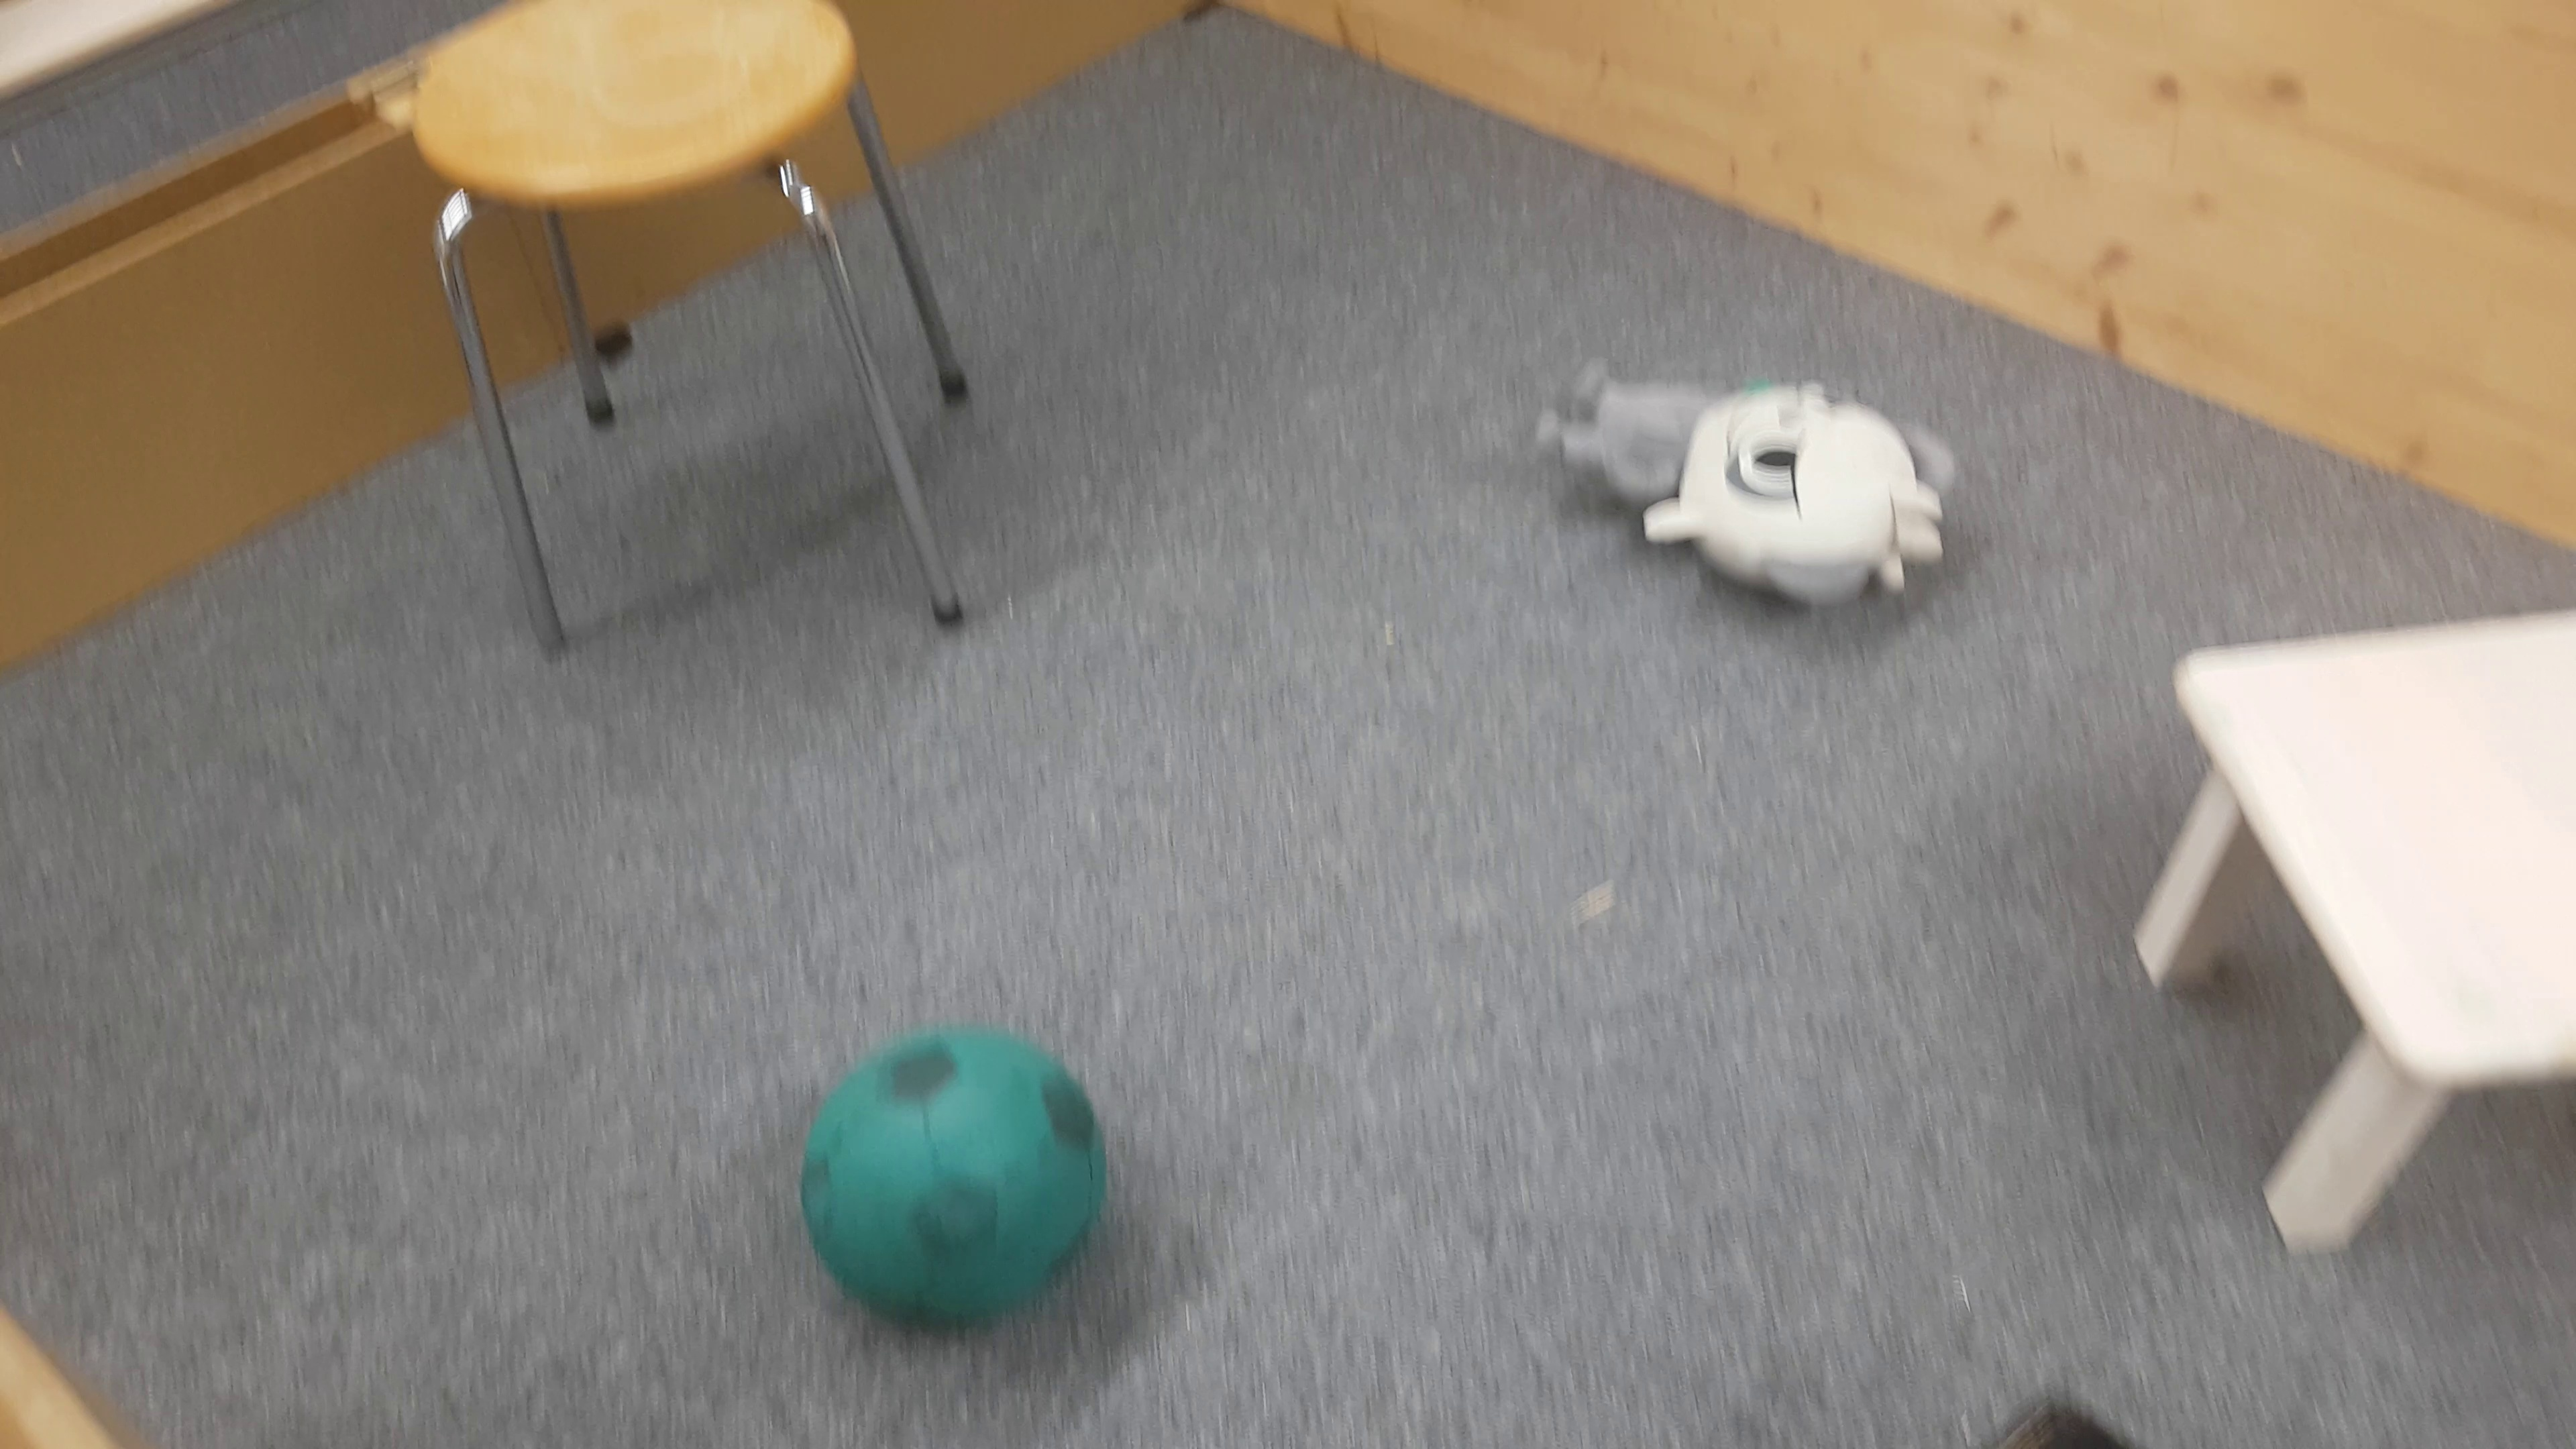grasp: (1541, 354, 1960, 609)
kick: (798, 1030, 1108, 1318)
